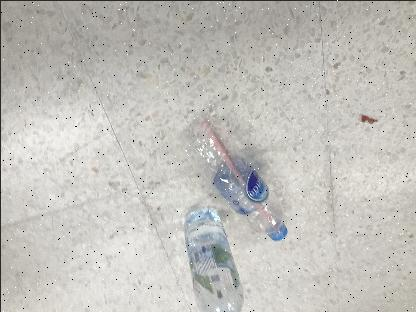Plastic Bottle: (178, 112, 286, 239), (182, 207, 244, 312)
